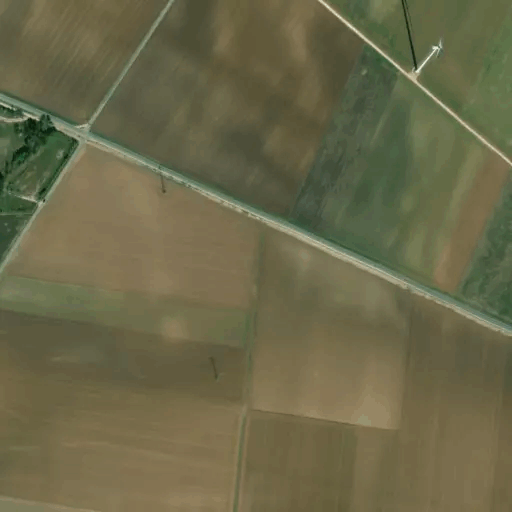wt: (394, 1, 450, 82)
